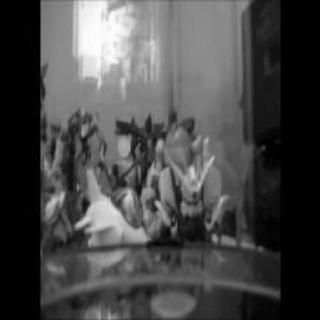other: (86, 11, 132, 71)
